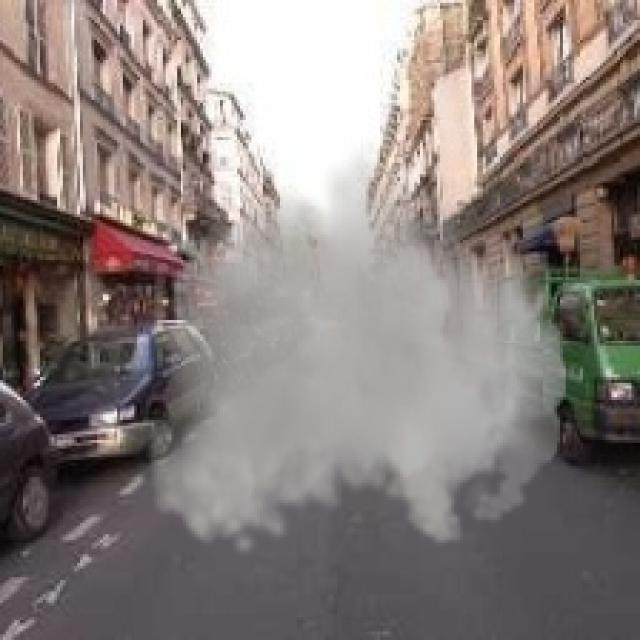smoke: (148, 137, 566, 557)
